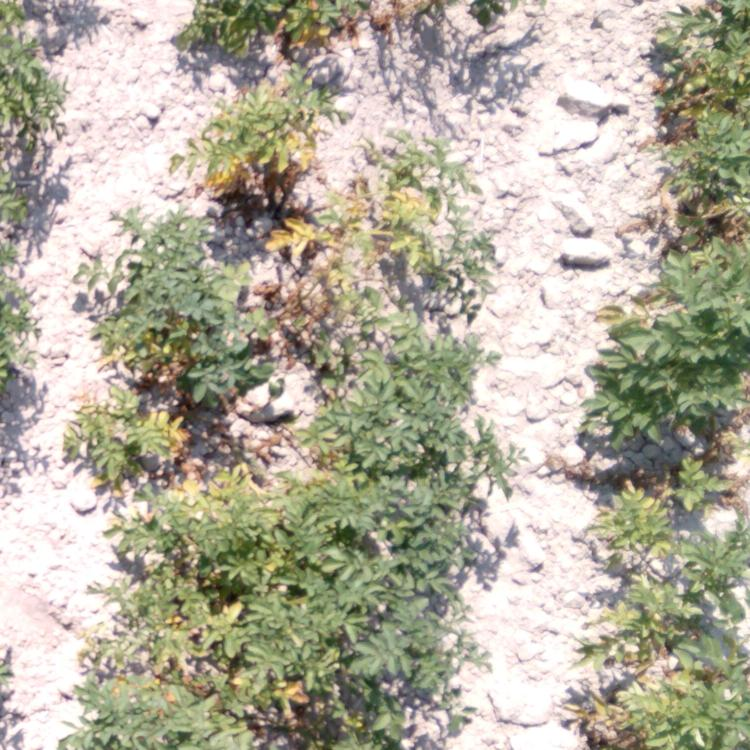healthy: (603, 248, 750, 442), (343, 487, 474, 683), (358, 335, 479, 482), (1, 1, 68, 152), (100, 220, 204, 312), (1, 157, 37, 412), (1, 641, 29, 750), (458, 1, 513, 37)
stressed: (112, 479, 343, 621), (329, 130, 470, 331), (646, 2, 748, 250), (589, 455, 750, 606), (596, 608, 750, 750), (75, 623, 221, 748), (189, 80, 325, 213), (166, 1, 414, 72), (224, 624, 344, 750), (55, 390, 204, 478), (100, 314, 268, 388), (277, 214, 338, 325), (288, 385, 357, 480), (346, 687, 447, 750), (271, 328, 353, 375)
